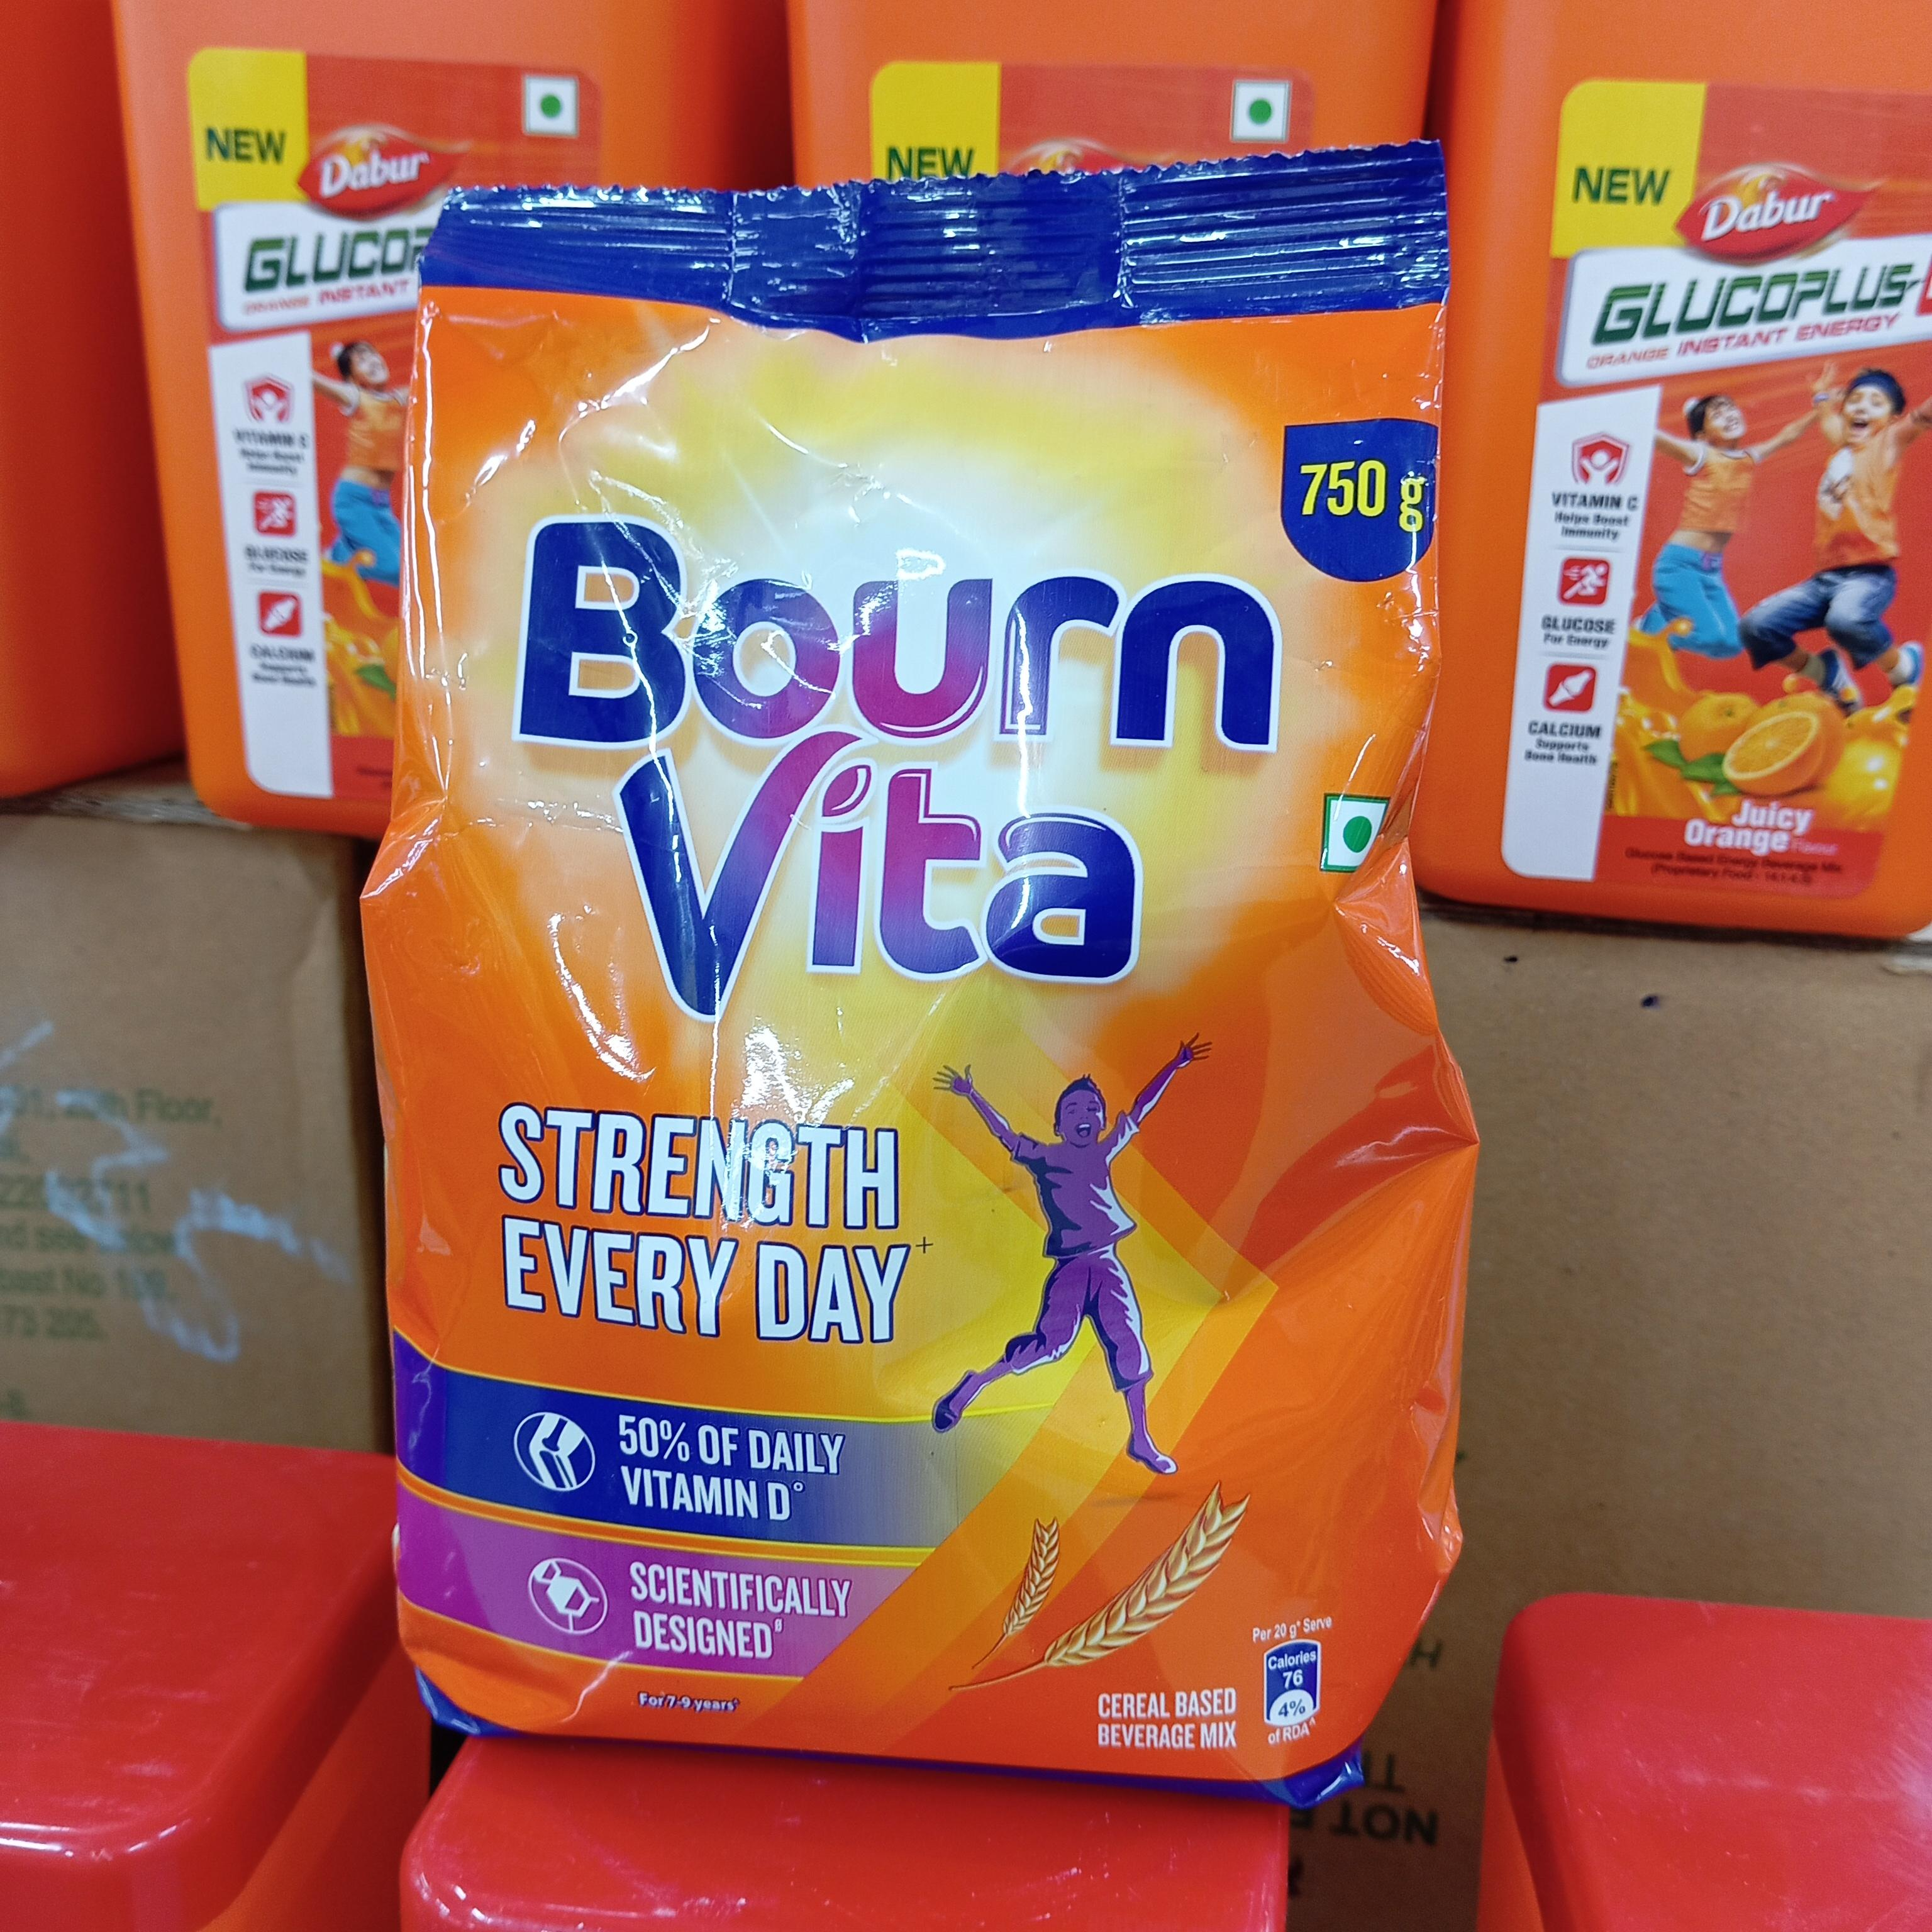BOURN_VITA_750_G_POUCH: (372, 150, 1490, 1805)
